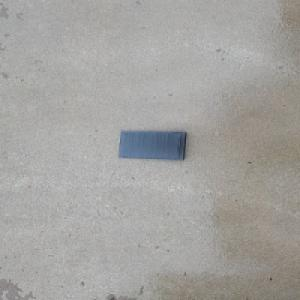PlasticPart: (116, 129, 187, 160)
